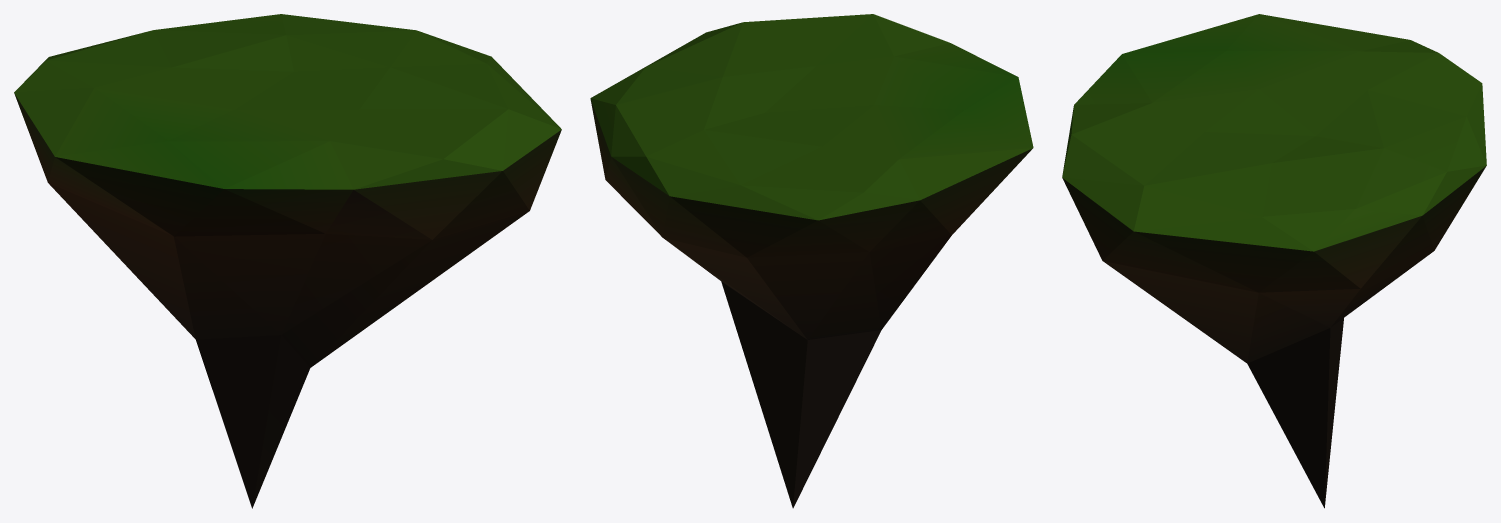
File: small_island.fbx
The picture shows the model from 3 angles, left to right: view 1: azimuth 30°, elevation 25°; view 2: azimuth 150°, elevation 25°; view 3: azimuth 270°, elevation 25°; orthographic projection. The views are drawn at different scales.
Parts seen in each view (by area): view 1: small_island; view 2: small_island; view 3: small_island.
Part boxes in pixels (box(x1,y1,x2,y2)): small_island: box(14, 14, 561, 508); small_island: box(590, 14, 1033, 508); small_island: box(1062, 14, 1486, 508).
Bounding box in the file's own units: 3.05 × 2.76 × 2.66.
